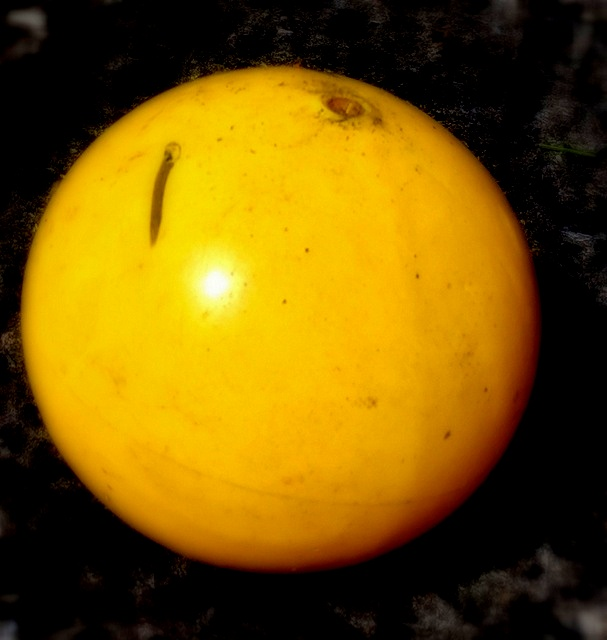ball: (25, 67, 534, 575)
